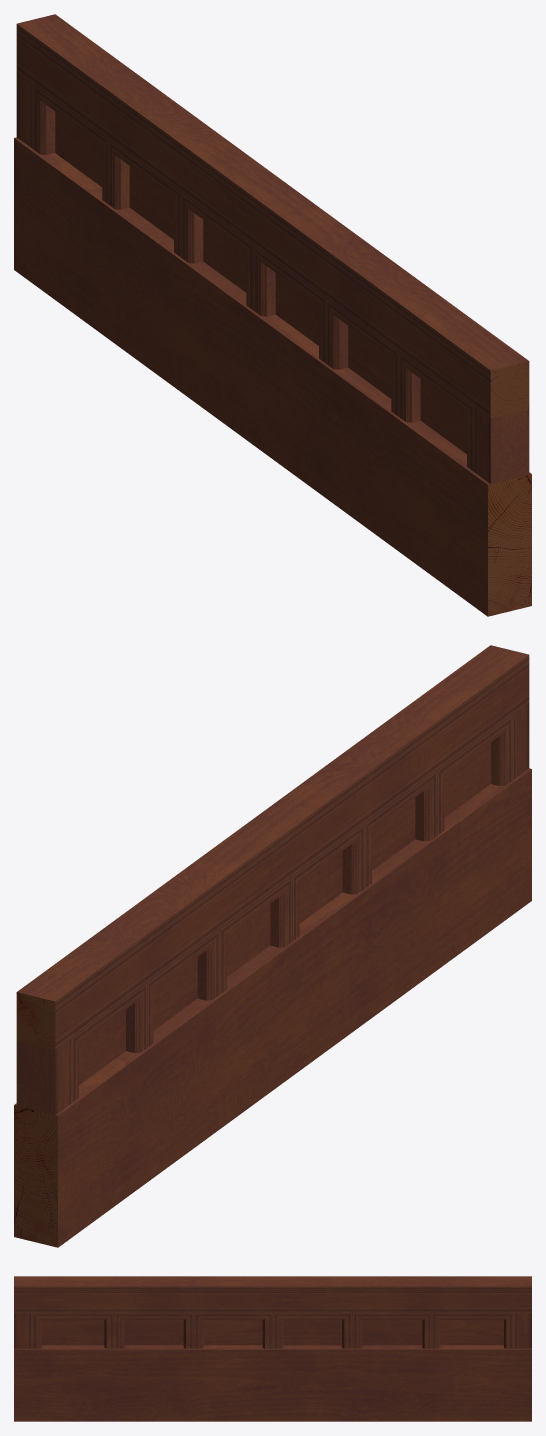
Rendered from SM_WindoSill03Ed.fbx.
3 views of the same model, one above another, from view 1: azimuth 30°, elevation 25°; view 2: azimuth 150°, elevation 25°; view 3: azimuth 270°, elevation 25° (orthographic). The views are drawn at different scales.
Visible parts, largest first — view 1: SM_WindoSill03Ed; view 2: SM_WindoSill03Ed; view 3: SM_WindoSill03Ed.
Boxes of the visible parts, left/top/right/bottom form: SM_WindoSill03Ed: left=14, top=14, right=531, bottom=616; SM_WindoSill03Ed: left=14, top=645, right=531, bottom=1247; SM_WindoSill03Ed: left=14, top=1276, right=531, bottom=1421.
Size of the model in its own units: 12 by 223 by 63.84.
1 material, 1 textured.
